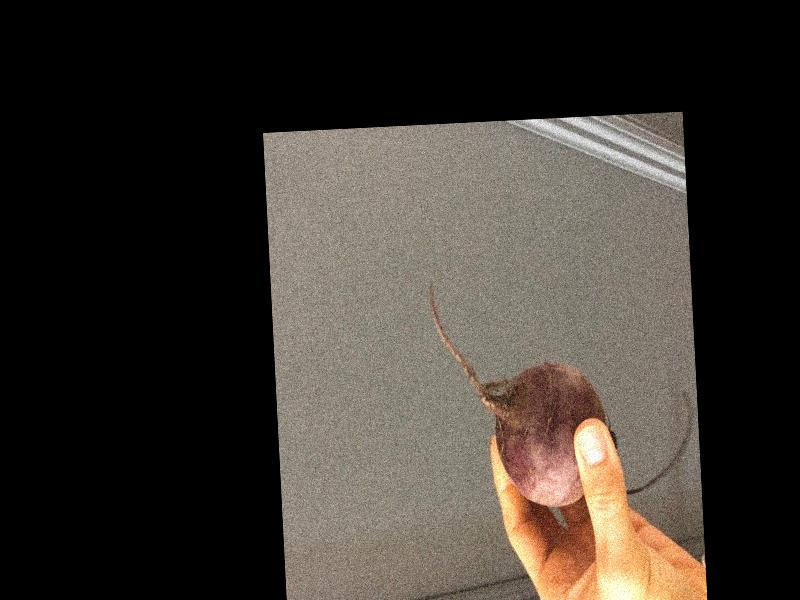Beet: (429, 267, 697, 511)
